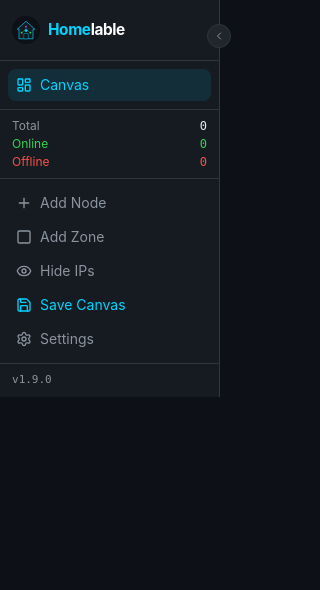
SettingsPanel › displays interval loaded from API
The image size is (320, 590).
What coordinates should you click on to do the following:
click the button "Settings"
I would click on:
 (110, 339)
Its box is 8,323 -> 211,355.
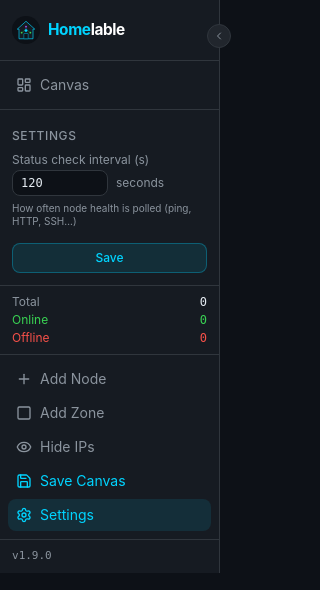
Now the number field showing "120" is shown, box 12,170 -> 108,196
